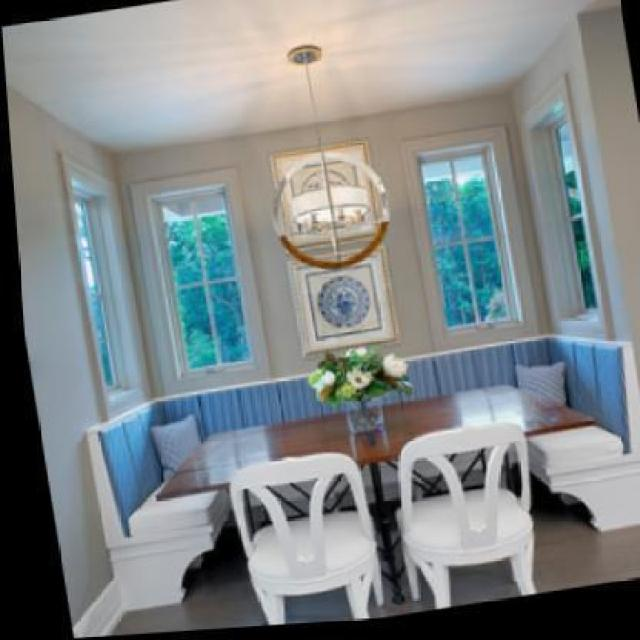tables: (154, 383, 597, 605)
